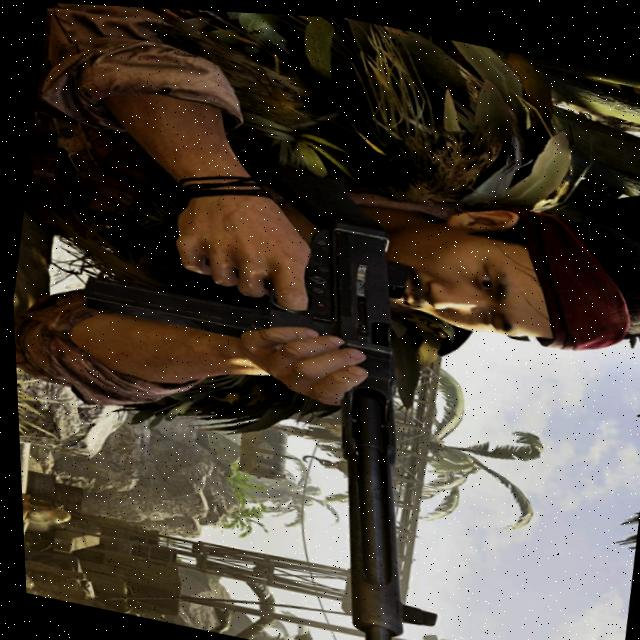firearm: (24, 122, 504, 640)
